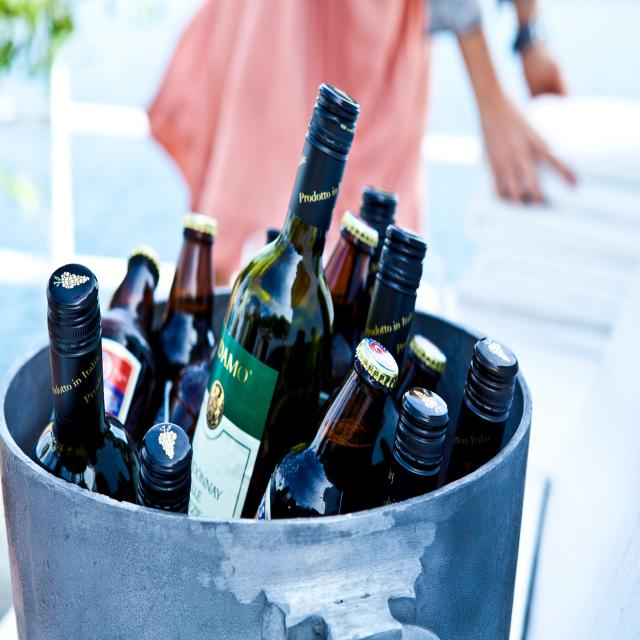Bottle: (190, 84, 359, 517), (32, 265, 139, 502), (258, 339, 397, 519), (154, 214, 217, 437), (102, 246, 159, 445), (443, 338, 518, 483), (322, 211, 377, 393), (157, 214, 217, 380), (374, 335, 446, 463), (365, 226, 426, 365), (384, 388, 448, 504), (359, 186, 398, 332), (157, 349, 215, 441), (139, 424, 192, 513), (394, 334, 446, 404), (267, 228, 280, 243)
